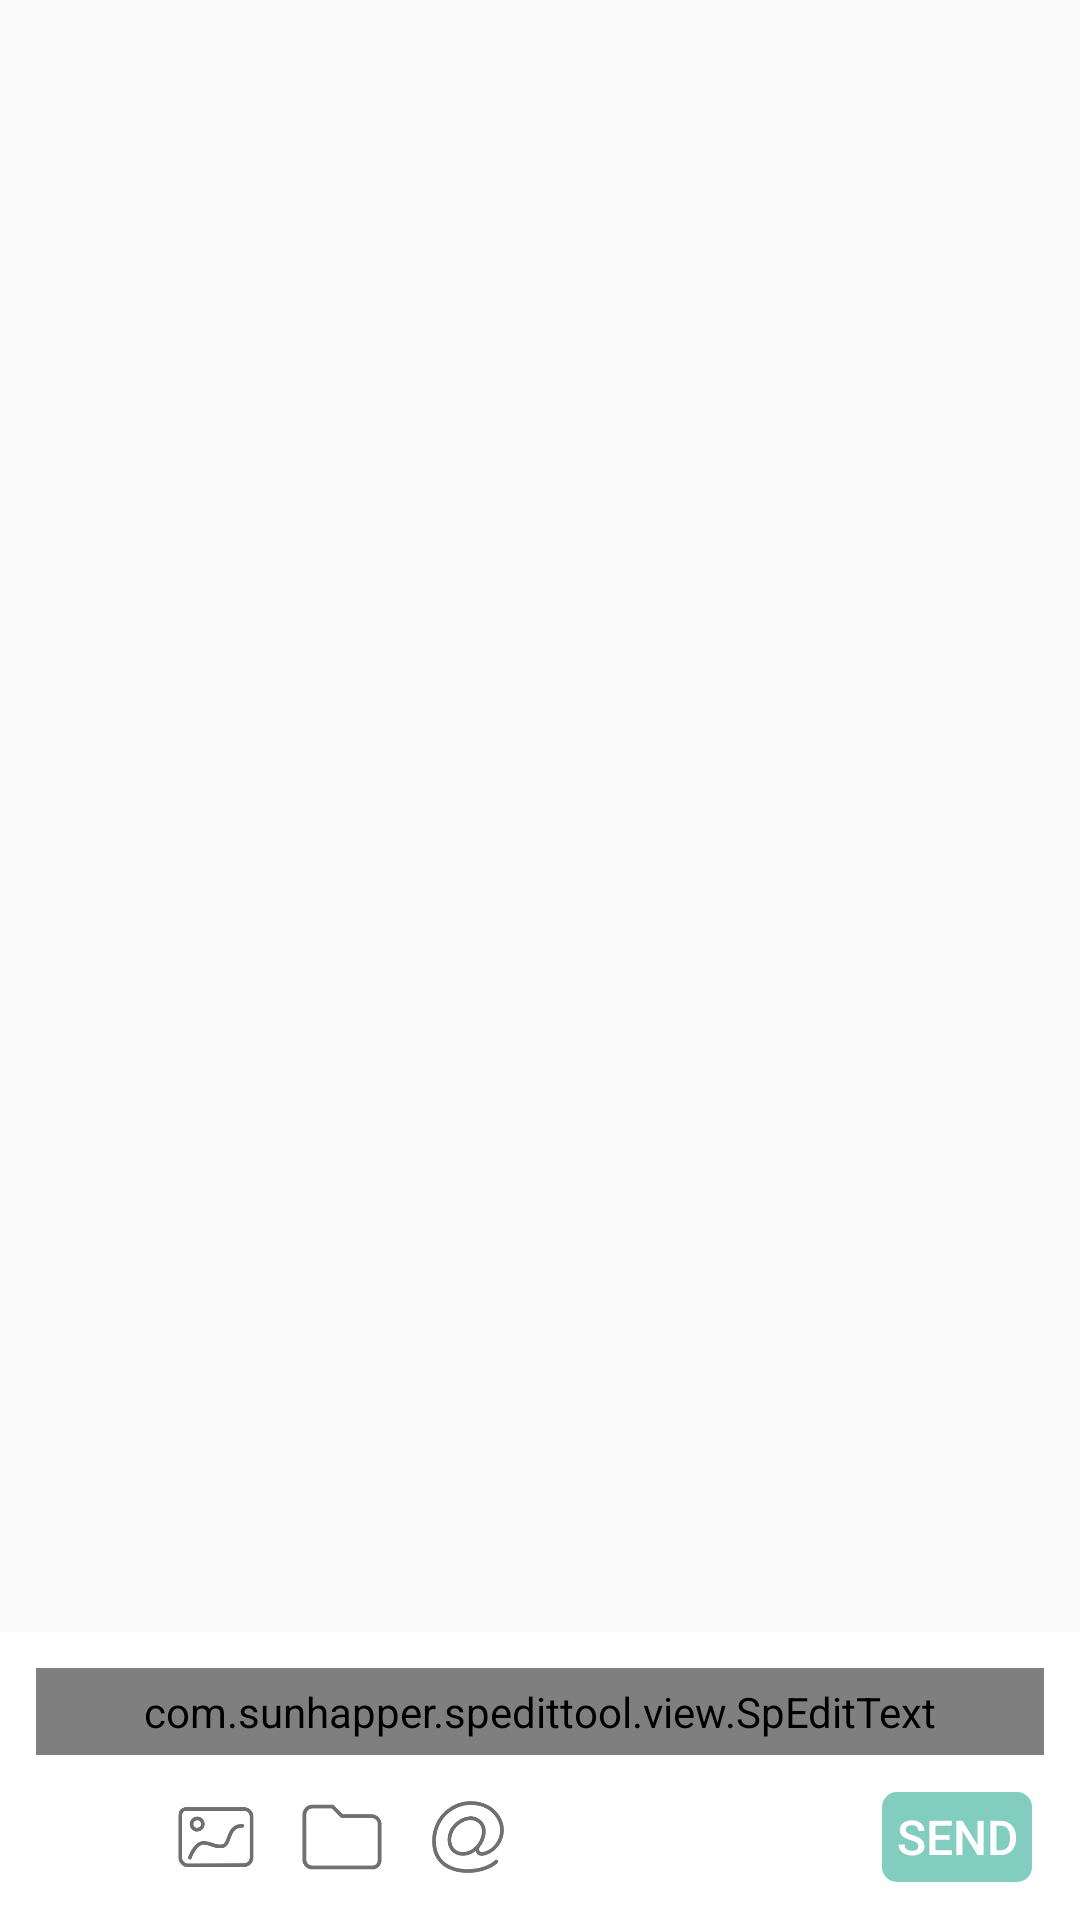

Where to tap for icons on this 1080*1920 app screen, as [x,y]:
file: [342,1837]
